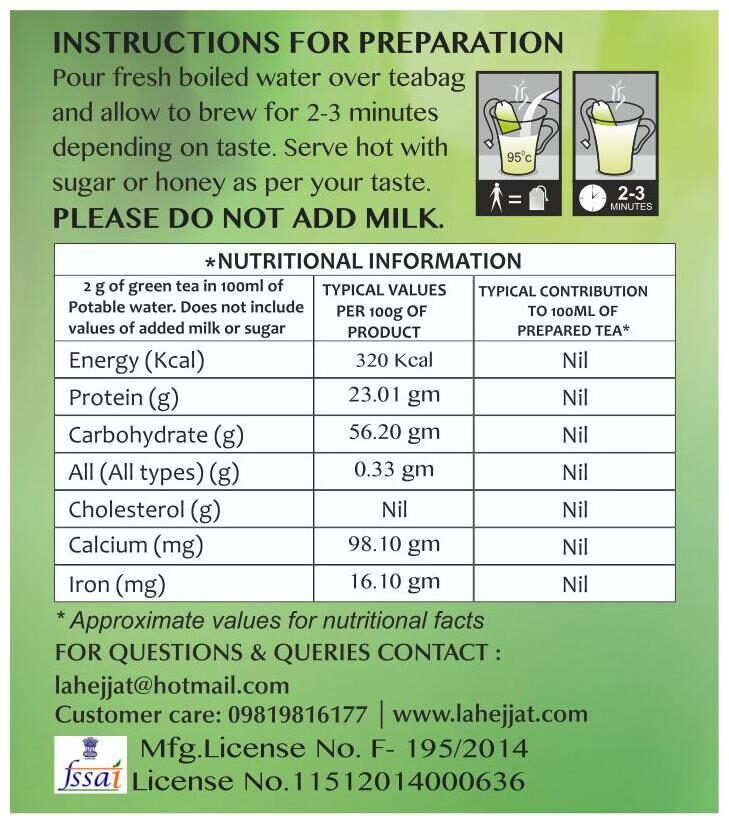fssai: (58, 758, 125, 792)
